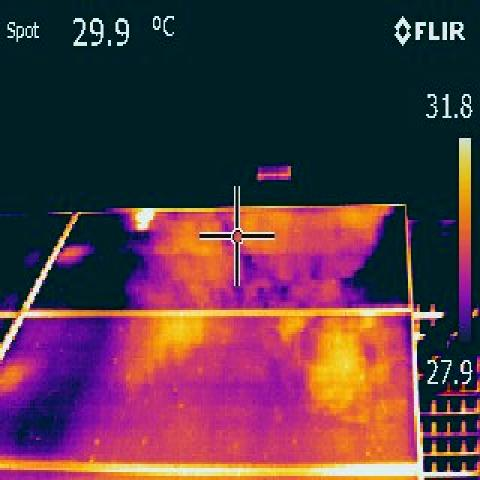fault: (134, 208, 154, 230)
